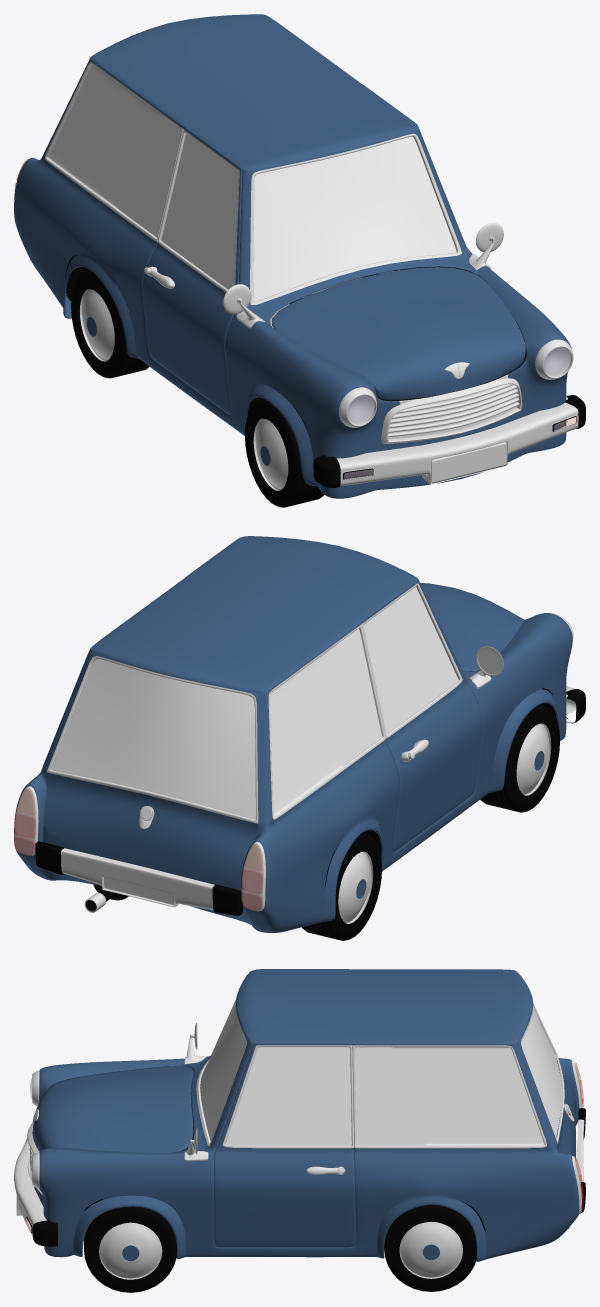
The picture shows the model from 3 angles, top to bottom: view 1: azimuth 30°, elevation 25°; view 2: azimuth 150°, elevation 25°; view 3: azimuth 270°, elevation 25°; orthographic projection. The views are drawn at different scales.
Visible parts, largest first — view 1: chasis, motor, door side, bomper front, wheels, wheels.001, radiadotr, mirror, plate fornt, light front, bottom; view 2: chasis, door back, door side, bumper back, wheels, motor, wheels.001, light back, mirror, plate back, bomper front, smoke; view 3: chasis, door side, motor, wheels, wheels.001, door back, bomper front, mirror, bumper back.
Part boxes in pixels (x1,y1,x2,y2): chasis: [14, 14, 573, 498]; motor: [272, 267, 525, 400]; door side: [142, 84, 480, 414]; bomper front: [313, 395, 585, 487]; wheels: [245, 399, 323, 507]; wheels.001: [71, 270, 149, 378]; radiadotr: [388, 384, 519, 437]; mirror: [223, 222, 503, 328]; plate fornt: [431, 442, 506, 483]; light front: [347, 347, 570, 424]; bottom: [65, 255, 529, 490]; chasis: [14, 536, 573, 932]; door back: [43, 656, 258, 890]; door side: [185, 537, 482, 851]; bumper back: [35, 841, 242, 915]; wheels: [480, 704, 559, 812]; motor: [420, 583, 524, 671]; wheels.001: [302, 833, 381, 940]; light back: [14, 789, 262, 910]; mirror: [469, 646, 503, 688]; plate back: [104, 877, 173, 904]; bomper front: [566, 685, 585, 723]; smoke: [84, 884, 128, 912]; chasis: [27, 969, 581, 1261]; door side: [214, 969, 356, 1247]; motor: [32, 1066, 193, 1152]; wheels: [84, 1206, 177, 1292]; wheels.001: [384, 1205, 476, 1291]; door back: [521, 997, 575, 1159]; bomper front: [14, 1138, 57, 1246]; mirror: [184, 1023, 208, 1161]; bumper back: [576, 1108, 585, 1212].
Size of the model in its own units: 1.91 by 1.83 by 3.95.
